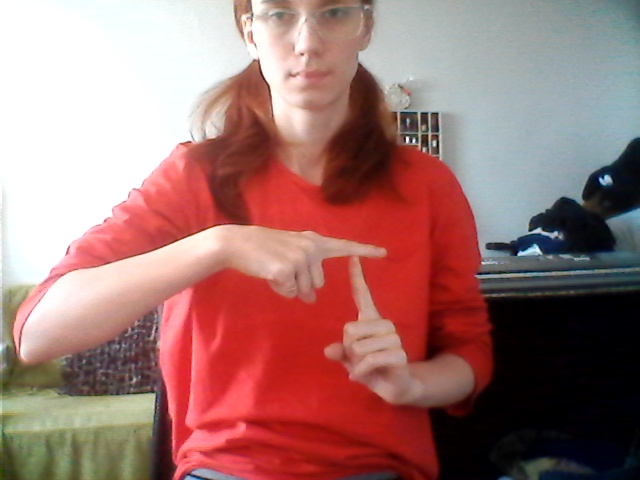t: (241, 211, 422, 419)
